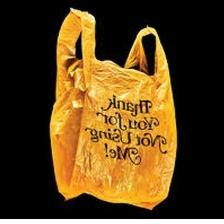plastic_bag: (47, 4, 180, 213)
